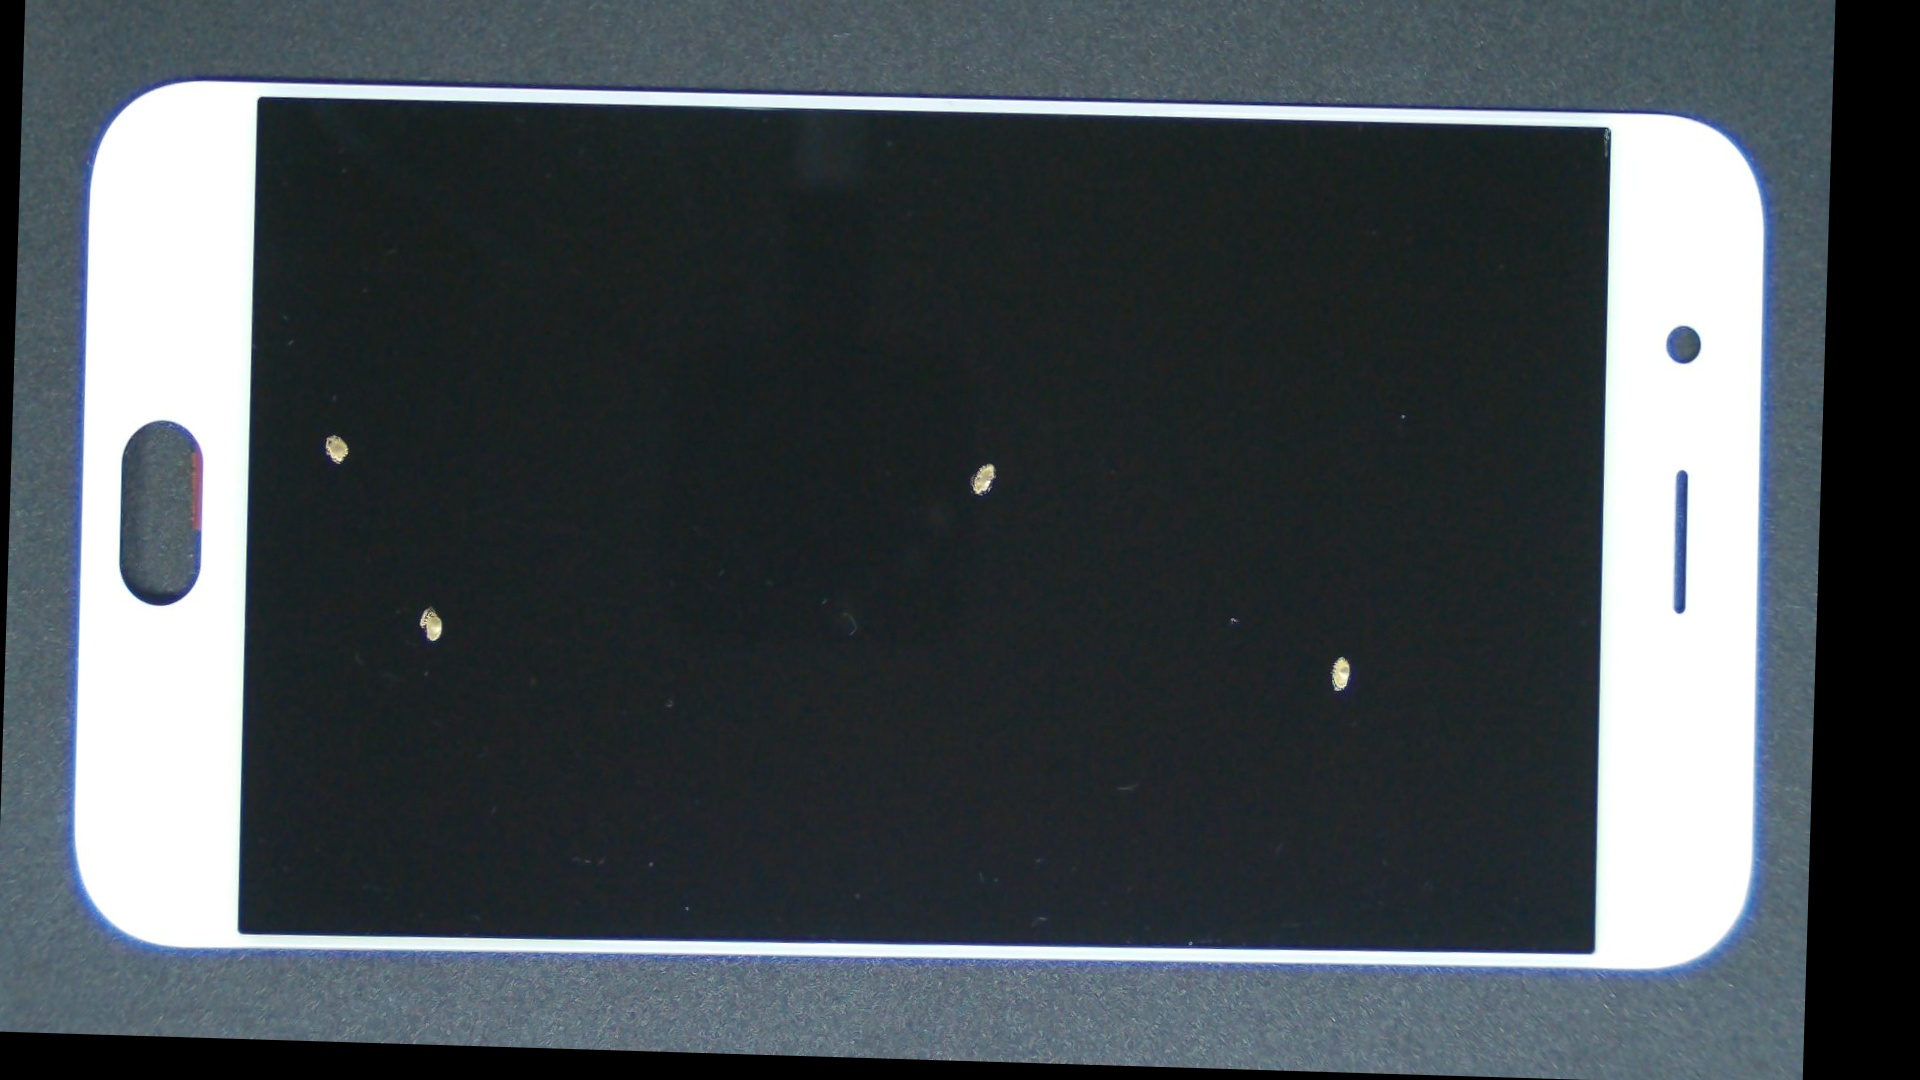oil: (665, 291, 1825, 1013), (493, 195, 1485, 732), (210, 265, 653, 944), (165, 181, 498, 688)
